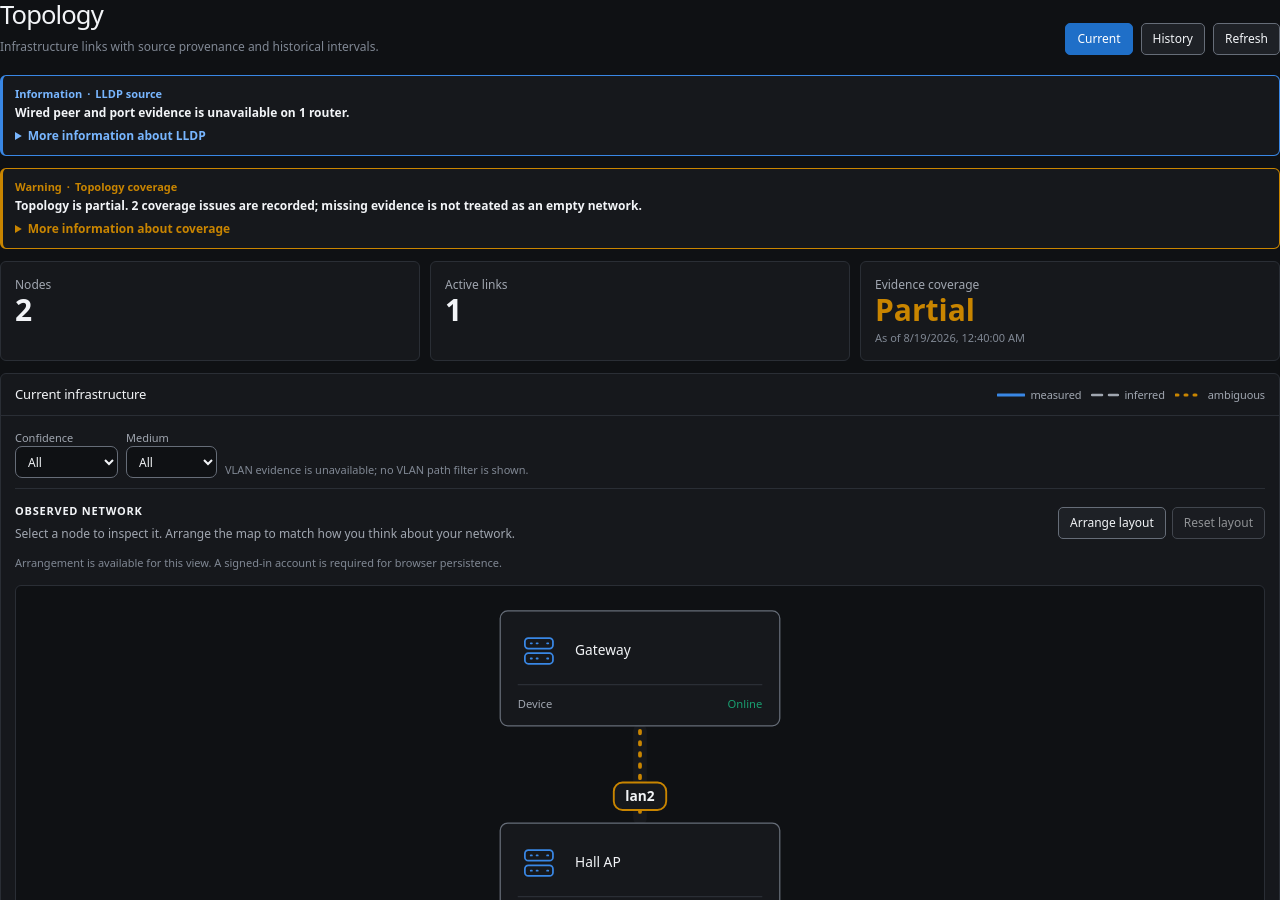
it: Topology › never relabels a stale or late response under a new mode
The width and height of the screenshot is (1280, 900).
What coordinates should you click on to do the following:
click the button "History"
I would click on:
 (1173, 39)
Its box is left=1141, top=23, right=1205, bottom=55.
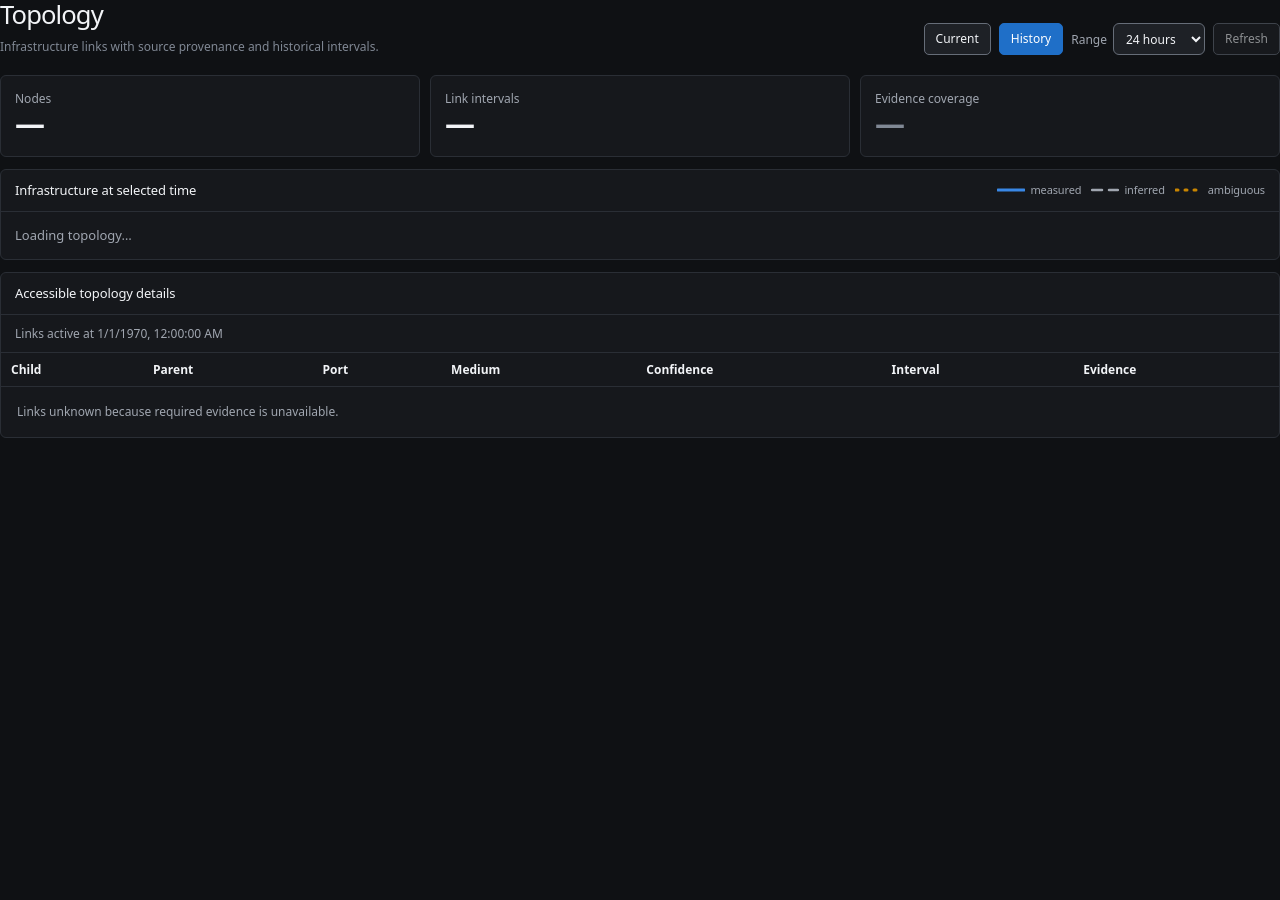
Expected: the text "Loading topology…" is shown, left=15, top=226, right=132, bottom=244
What coordinates should you click on to do the following:
click the button "Current"
I would click on:
 (957, 39)
Its box is left=924, top=23, right=991, bottom=55.
(page scrolled)
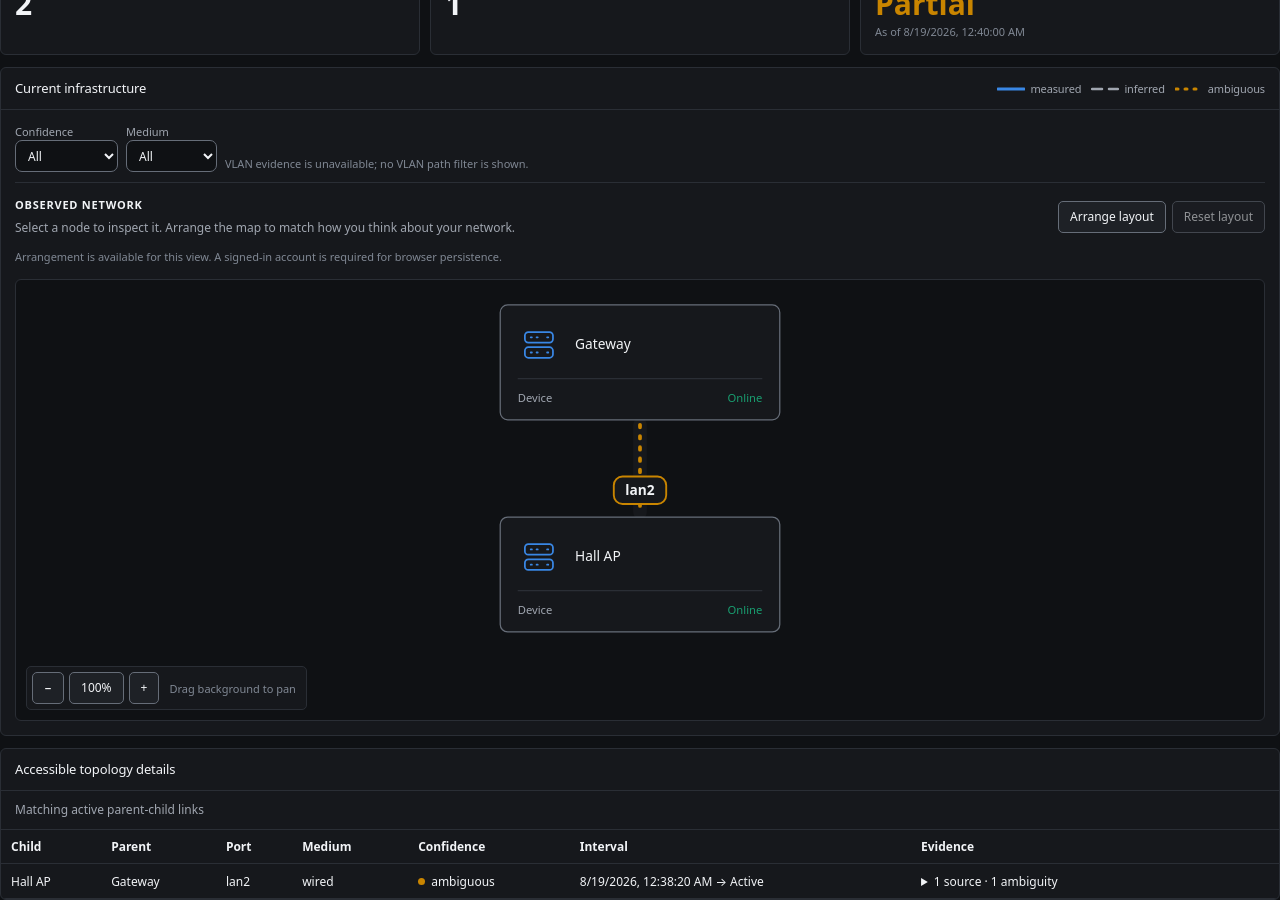
Expected: the text "Matching active parent-child links" is shown, left=15, top=801, right=204, bottom=818
Expected: the icon named "2 topology nodes and 1 links" is shown, left=16, top=280, right=1264, bottom=656
